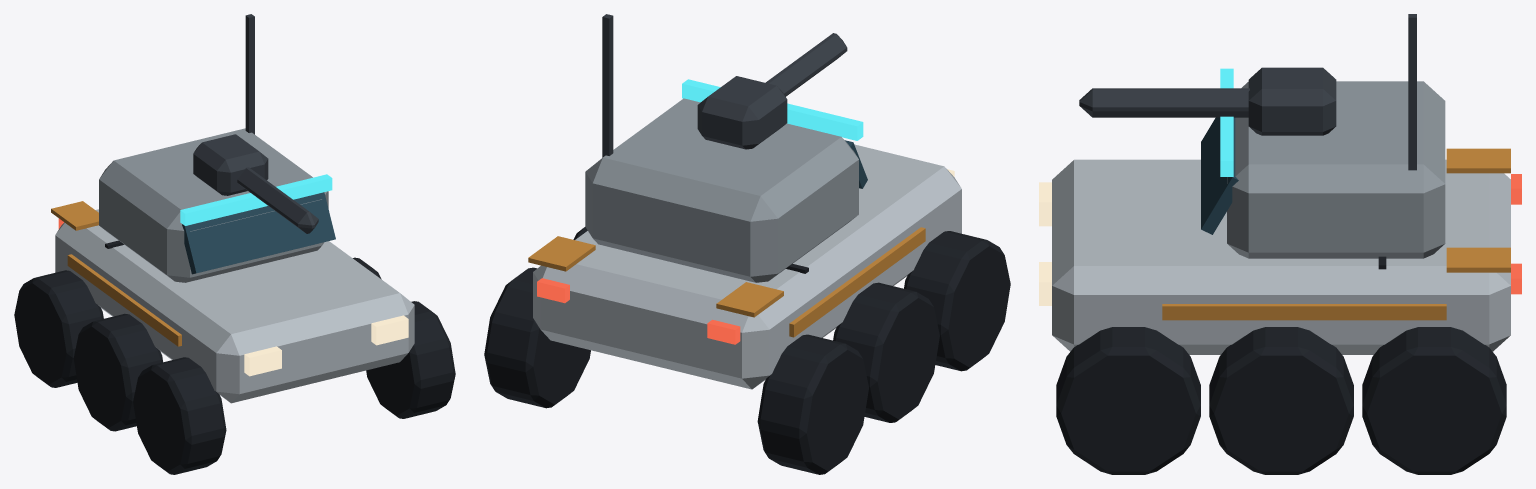
The model's file is exo-rover.glb.
The picture shows the model from 3 angles, left to right: view 1: azimuth 30°, elevation 25°; view 2: azimuth 150°, elevation 25°; view 3: azimuth 270°, elevation 25°; orthographic projection. The views are drawn at different scales.
Parts seen in each view (by area): view 1: body, turret; view 2: body, turret; view 3: body, turret.
Part boxes in pixels (<box>): body: <box>14,14,455,474</box>; turret: <box>193,134,318,233</box>; body: <box>484,14,1010,474</box>; turret: <box>697,33,847,149</box>; body: <box>1039,14,1521,474</box>; turret: <box>1079,67,1336,135</box>.
Bounding box in the file's own units: 1.84 × 2.11 × 2.21.
